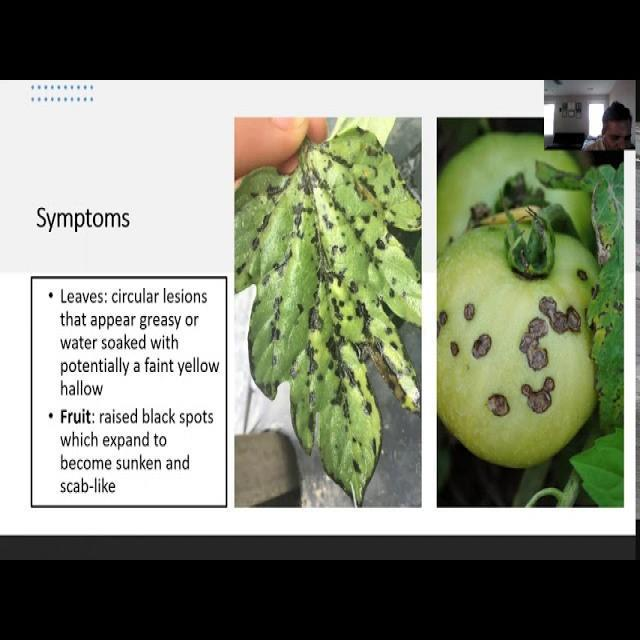Bacterial Spot: (236, 126, 422, 503), (438, 278, 591, 433)
